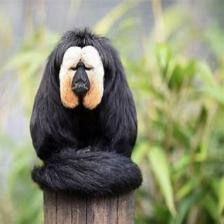monkey: (30, 30, 158, 198)
